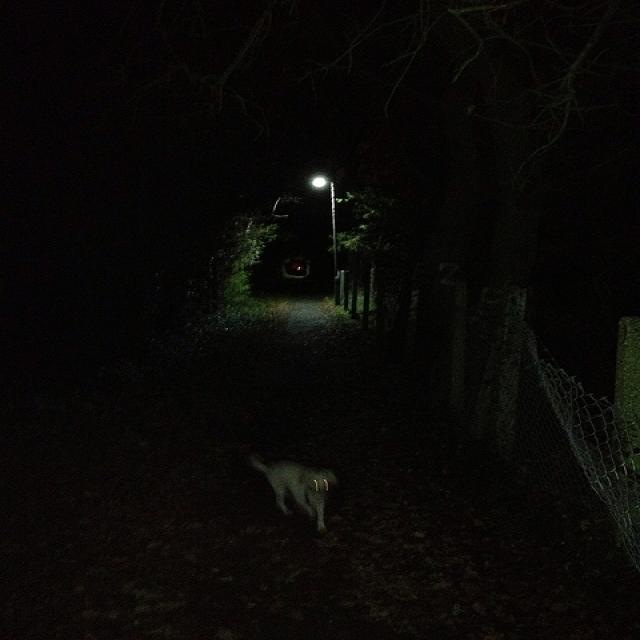dog: (220, 434, 374, 539)
